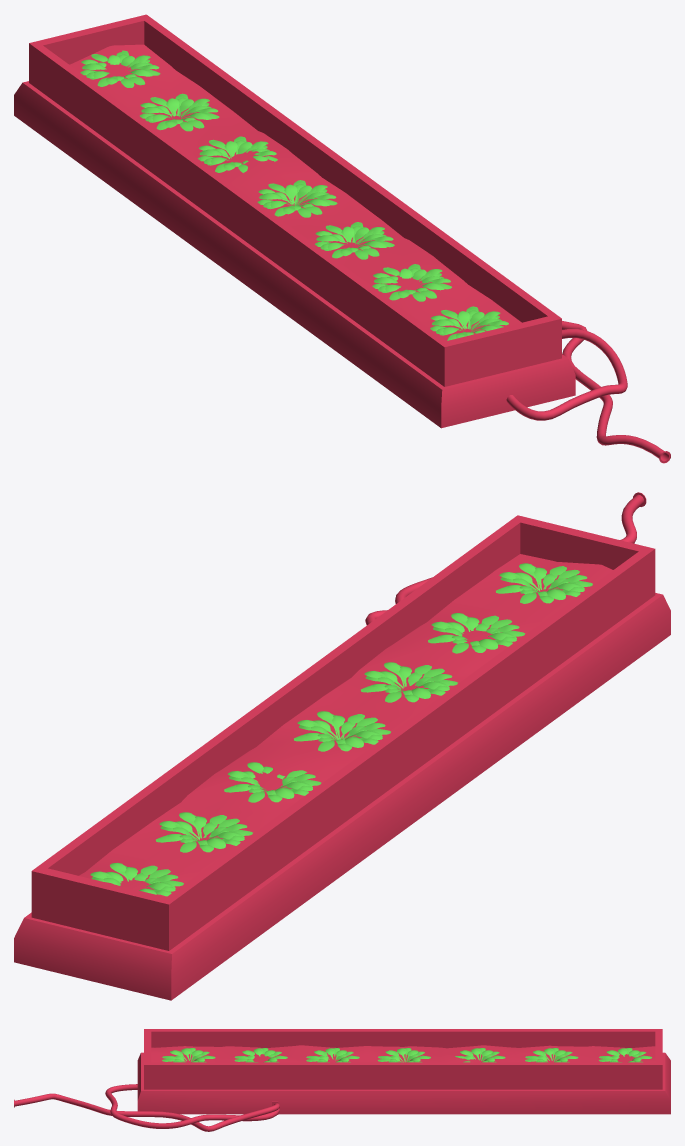
Rendered from Maceta (Suelo).fbx.
The picture shows the model from 3 angles, top to bottom: view 1: azimuth 30°, elevation 25°; view 2: azimuth 150°, elevation 25°; view 3: azimuth 270°, elevation 25°; orthographic projection. The views are drawn at different scales.
Parts seen in each view (by area): view 1: Plane.026; view 2: Plane.026; view 3: Plane.026.
Boxes of the visible parts, x1,y1,x2,y2 form: Plane.026: [14, 14, 670, 463]; Plane.026: [14, 492, 670, 1000]; Plane.026: [14, 1029, 670, 1131].
Bounding box in the file's own units: 157 × 55.72 × 706.
